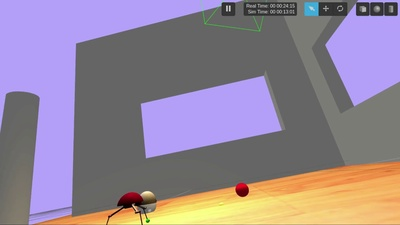mira_robot: (137, 190, 157, 213)
